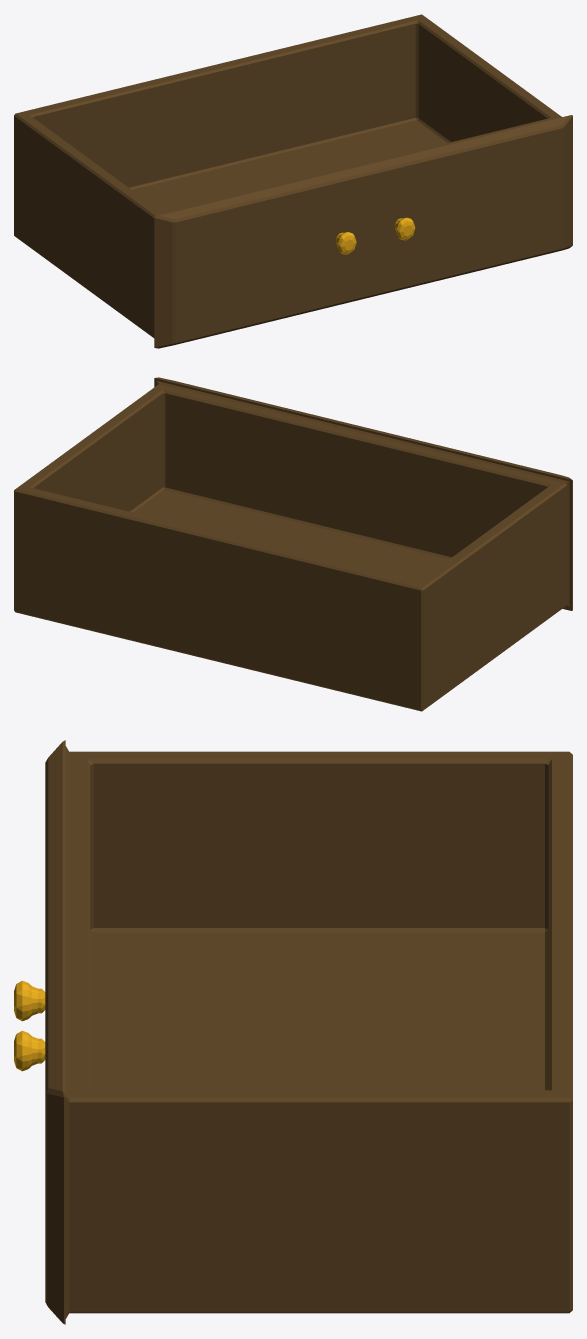
File: Armario Cozinha Gaveta.fbx
The picture shows the model from 3 angles, top to bottom: view 1: azimuth 30°, elevation 25°; view 2: azimuth 150°, elevation 25°; view 3: azimuth 270°, elevation 25°; orthographic projection. The views are drawn at different scales.
Visible parts, largest first — view 1: Gaveta; view 2: Gaveta; view 3: Gaveta.
Boxes of the visible parts, box(x1,y1,x2,y2) form: Gaveta: box(14, 14, 572, 348); Gaveta: box(14, 377, 572, 711); Gaveta: box(14, 740, 572, 1324).
Size of the model in its own units: 76.85 by 23.32 by 50.92.
